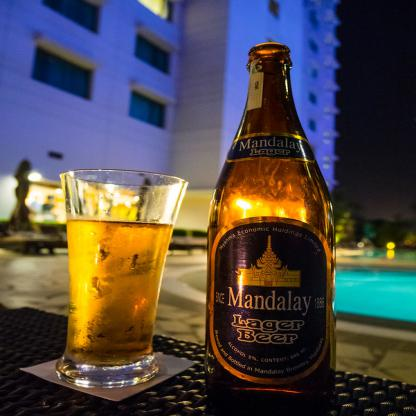drinking: (205, 42, 337, 415), (59, 168, 188, 388)
